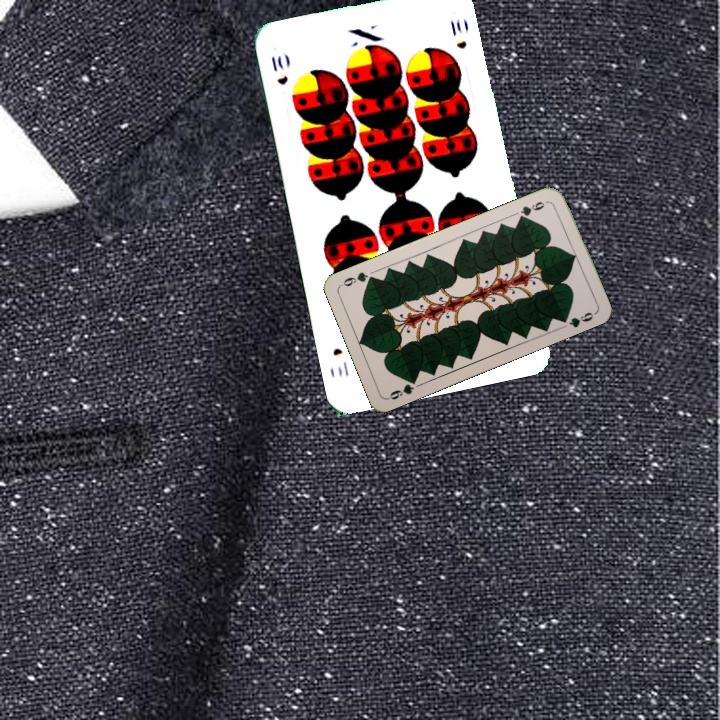G9: (384, 374, 420, 402), (515, 197, 551, 222)
S10: (267, 51, 291, 88)
